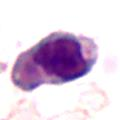lymphocyte: (7, 29, 102, 93)
